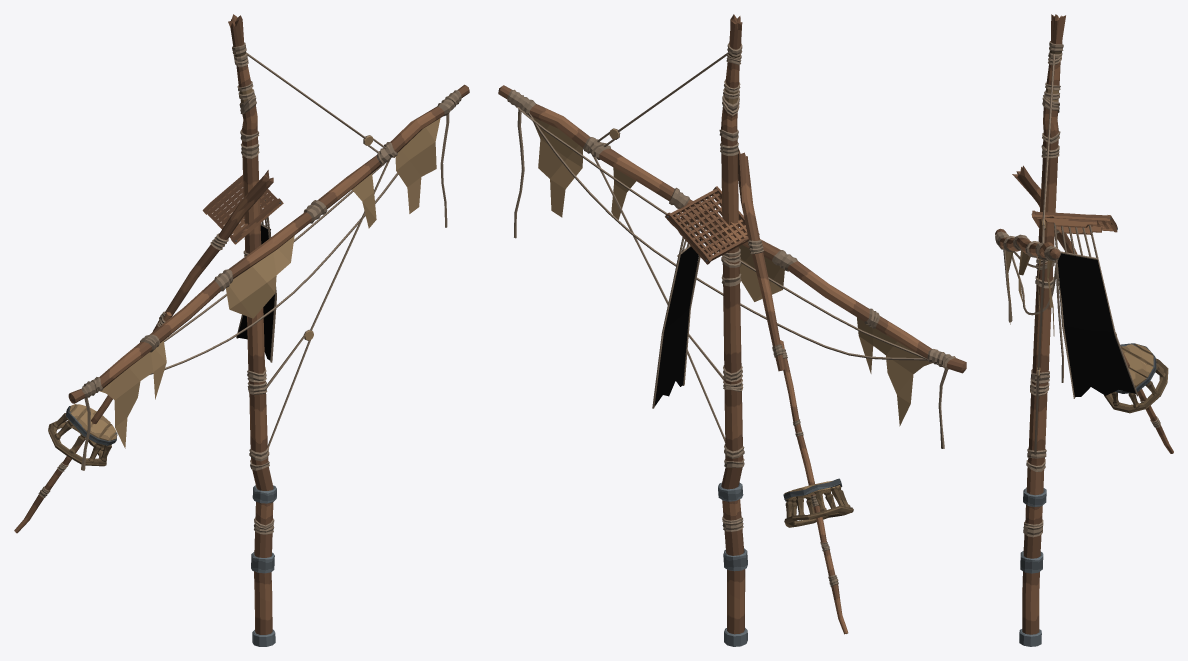
Rendered from SM_Prop_Wreck_Mast_Medium_01.fbx.
The picture shows the model from 3 angles, left to right: view 1: azimuth 30°, elevation 25°; view 2: azimuth 150°, elevation 25°; view 3: azimuth 270°, elevation 25°; orthographic projection. The views are drawn at different scales.
Parts seen in each view (by area): view 1: SM_Prop_Wreck_Mast_Medium_01; view 2: SM_Prop_Wreck_Mast_Medium_01; view 3: SM_Prop_Wreck_Mast_Medium_01.
Boxes of the visible parts, x1=… form: SM_Prop_Wreck_Mast_Medium_01: x1=14, y1=14, x2=469, y2=646; SM_Prop_Wreck_Mast_Medium_01: x1=498, y1=14, x2=966, y2=646; SM_Prop_Wreck_Mast_Medium_01: x1=995, y1=14, x2=1173, y2=646.
Bounding box in the file's own units: 1951 × 2721 × 707.
